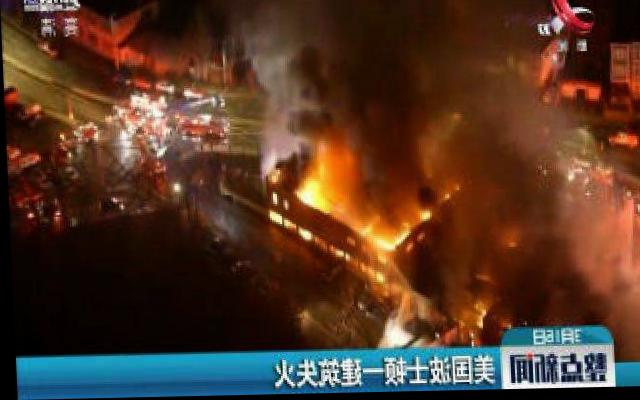fire: (271, 141, 479, 282)
